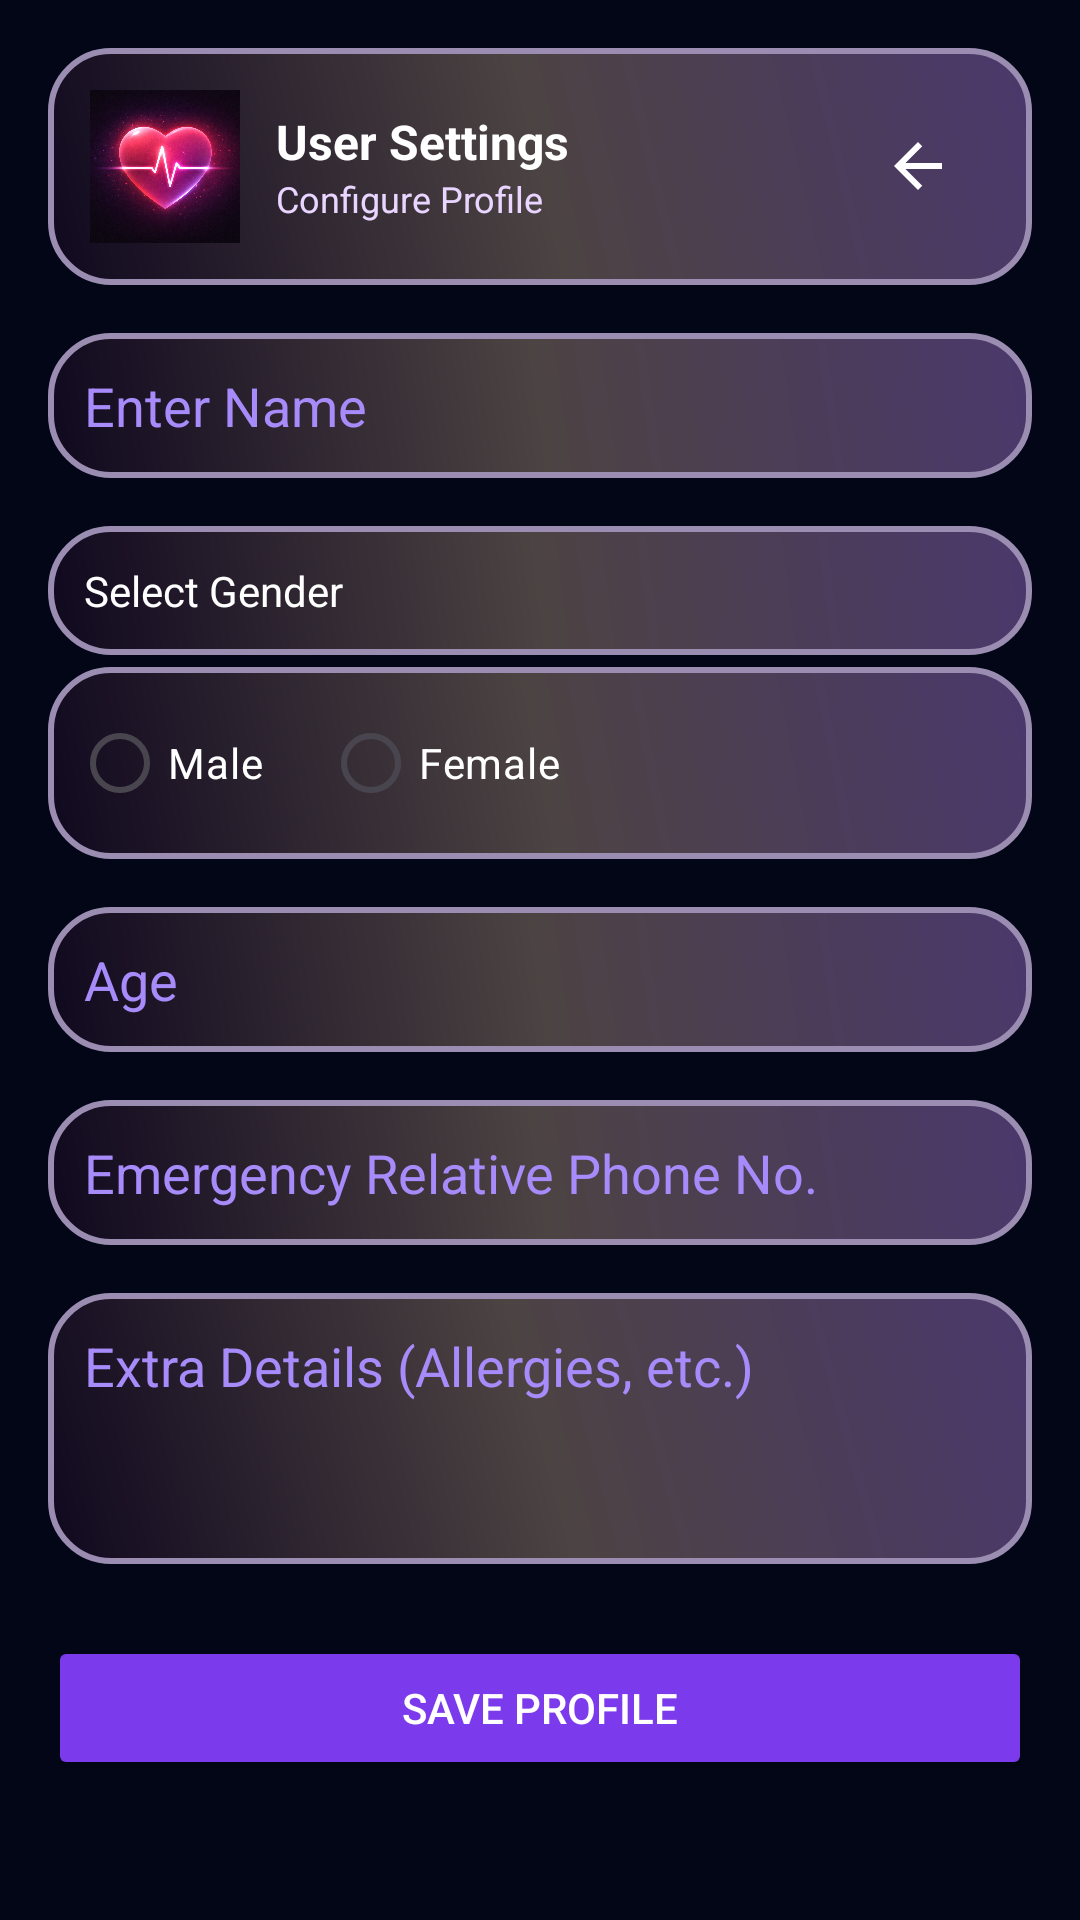

Where icons sit on this 1080x1920 app screen, as (x1, y1, x2, y2):
Back: (894, 142, 942, 190)
